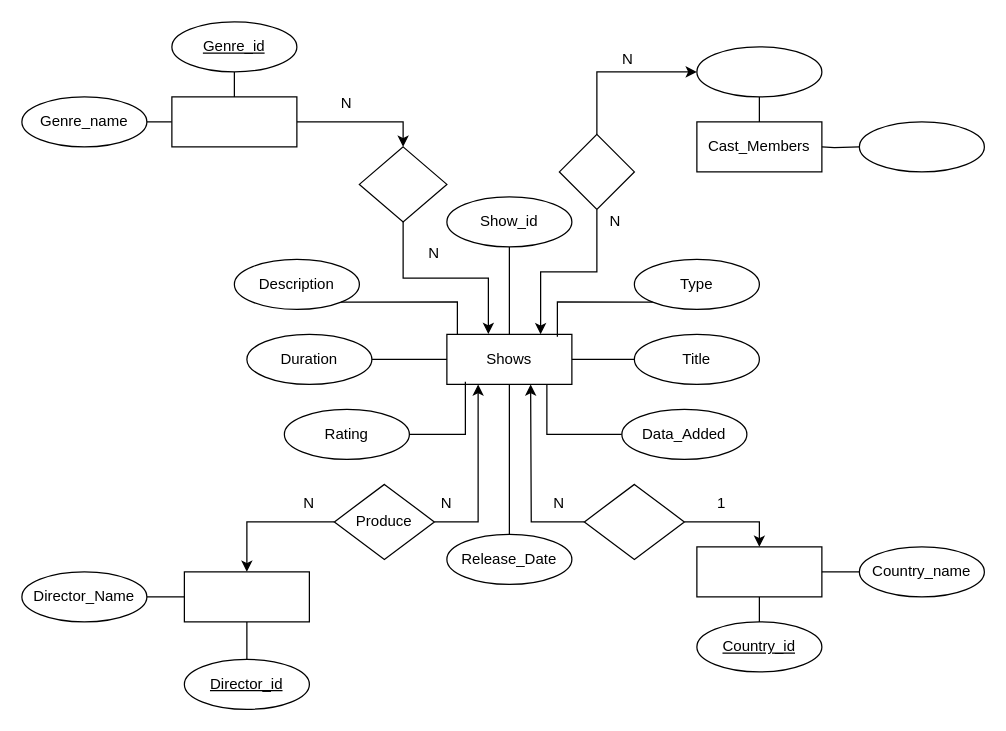
Image size: 1006x731. Some labels were removed from this diagram. Here are the shapes that lost their labels. From the top down, the centre of each, then its label:
the point at 759,71: Cast_id
the point at 234,121: Genres
the point at 921,146: Cast_name
the point at 402,184: Listed
the point at 596,171: Casting
the point at 633,521: Made in
the point at 759,571: Countries
the point at 246,596: Directors
